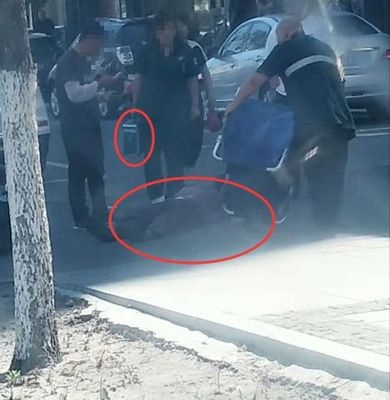falling: (118, 171, 241, 245)
